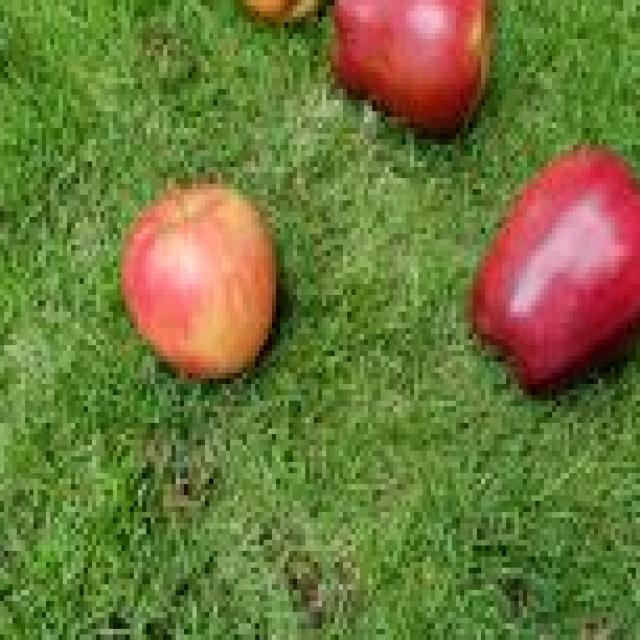Good_Apple 10-21 days: (471, 153, 640, 391), (125, 186, 274, 377), (333, 0, 492, 135)
